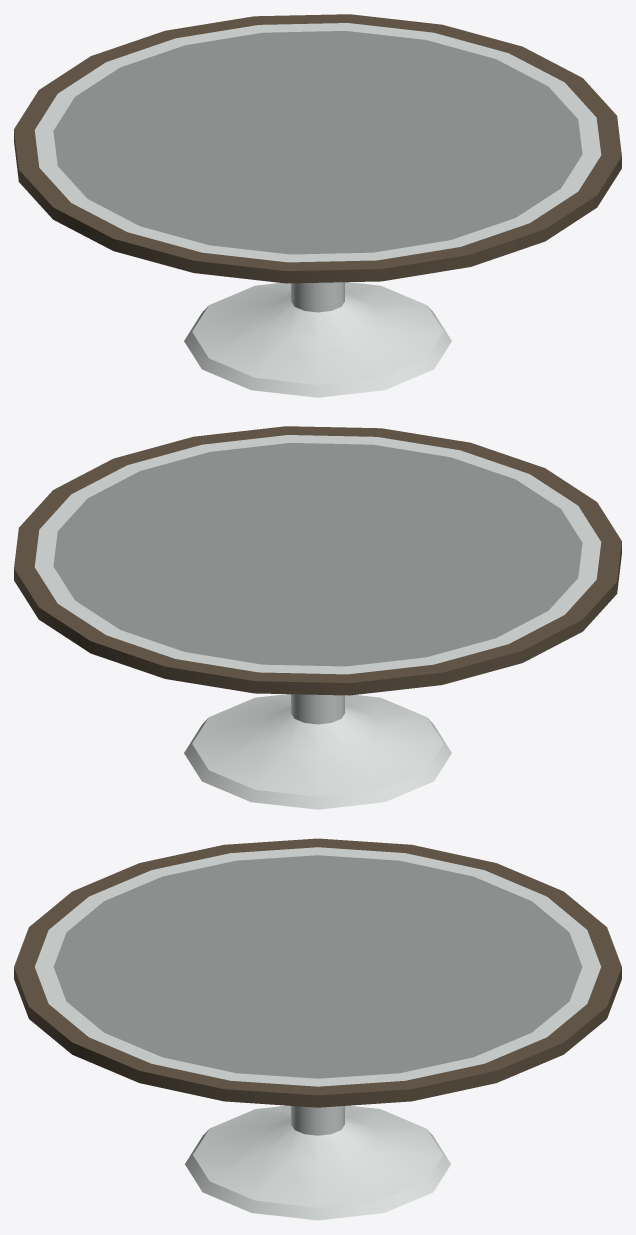
3 views of the same model, one above another, from view 1: azimuth 30°, elevation 25°; view 2: azimuth 150°, elevation 25°; view 3: azimuth 270°, elevation 25° (orthographic).
Parts seen in each view (by area): view 1: G:\FFXIV-MapTools\exports\s1f3\bg\ffxiv\sea_s1\fld\s1f3\bgpa (×3); view 2: G:\FFXIV-MapTools\exports\s1f3\bg\ffxiv\sea_s1\fld\s1f3\bgpa (×3); view 3: G:\FFXIV-MapTools\exports\s1f3\bg\ffxiv\sea_s1\fld\s1f3\bgpa (×3).
Boxes of the visible parts, box(x1,y1,x2,y2) form: G:\FFXIV-MapTools\exports\s1f3\bg\ffxiv\sea_s1\fld\s1f3\bgpa (×3): box(14, 14, 621, 397); G:\FFXIV-MapTools\exports\s1f3\bg\ffxiv\sea_s1\fld\s1f3\bgpa (×3): box(14, 426, 621, 809); G:\FFXIV-MapTools\exports\s1f3\bg\ffxiv\sea_s1\fld\s1f3\bgpa (×3): box(14, 838, 621, 1220).
Size of the model in its own units: 2.23 by 0.7998 by 2.23.
